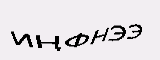И: (7, 30, 34, 50)
Н: (90, 27, 109, 45)
Ф: (65, 30, 88, 49)
Э: (125, 22, 144, 40), (110, 21, 125, 42)
Ң: (35, 31, 65, 52)
